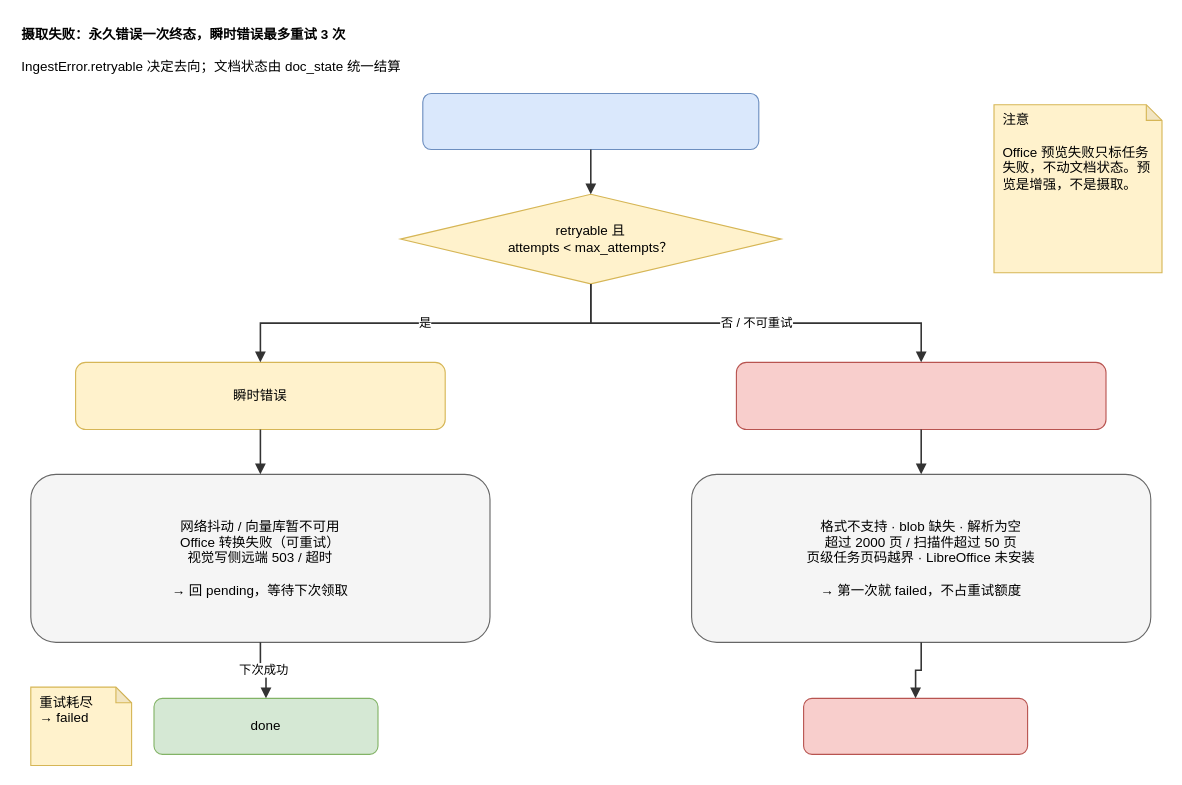
This 1182x785 diagram has some shape labels left out. Each missing label, with the centre of its shape:
failed: the point at 915,725
任务抛异常: the point at 590,121
永久错误: the point at 920,395
